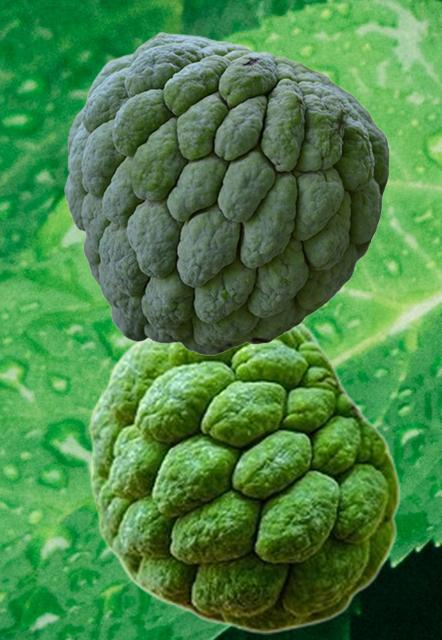atis: (64, 32, 389, 354), (89, 322, 400, 633)
